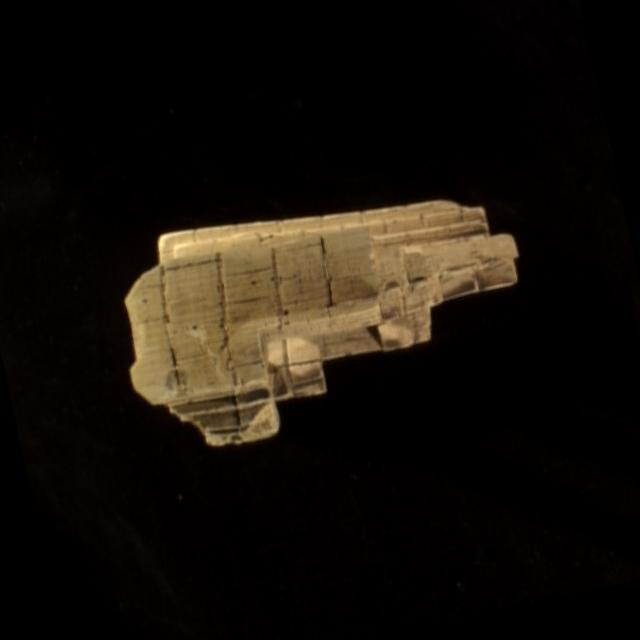Instance-Segmentation: (124, 201, 516, 446)
